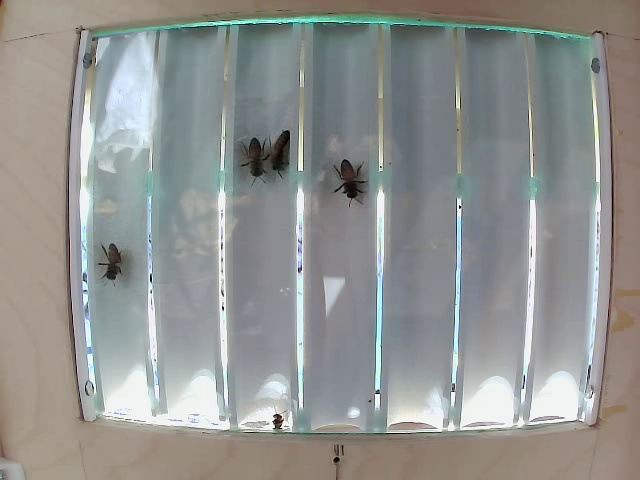bee: (259, 117, 301, 187), (333, 154, 369, 214), (229, 130, 263, 184), (101, 233, 132, 288)
